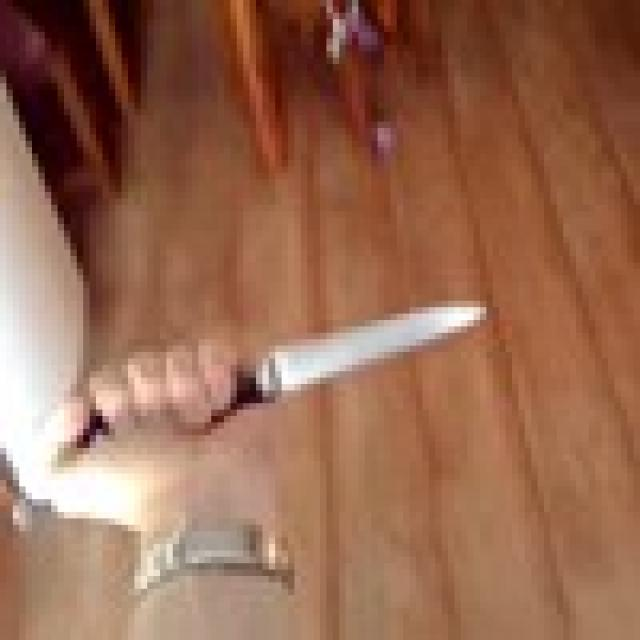Knife: (141, 300, 493, 442)
